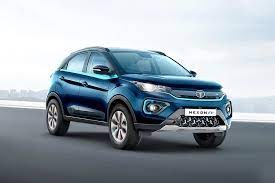Tata Nexon: (45, 43, 233, 153)
